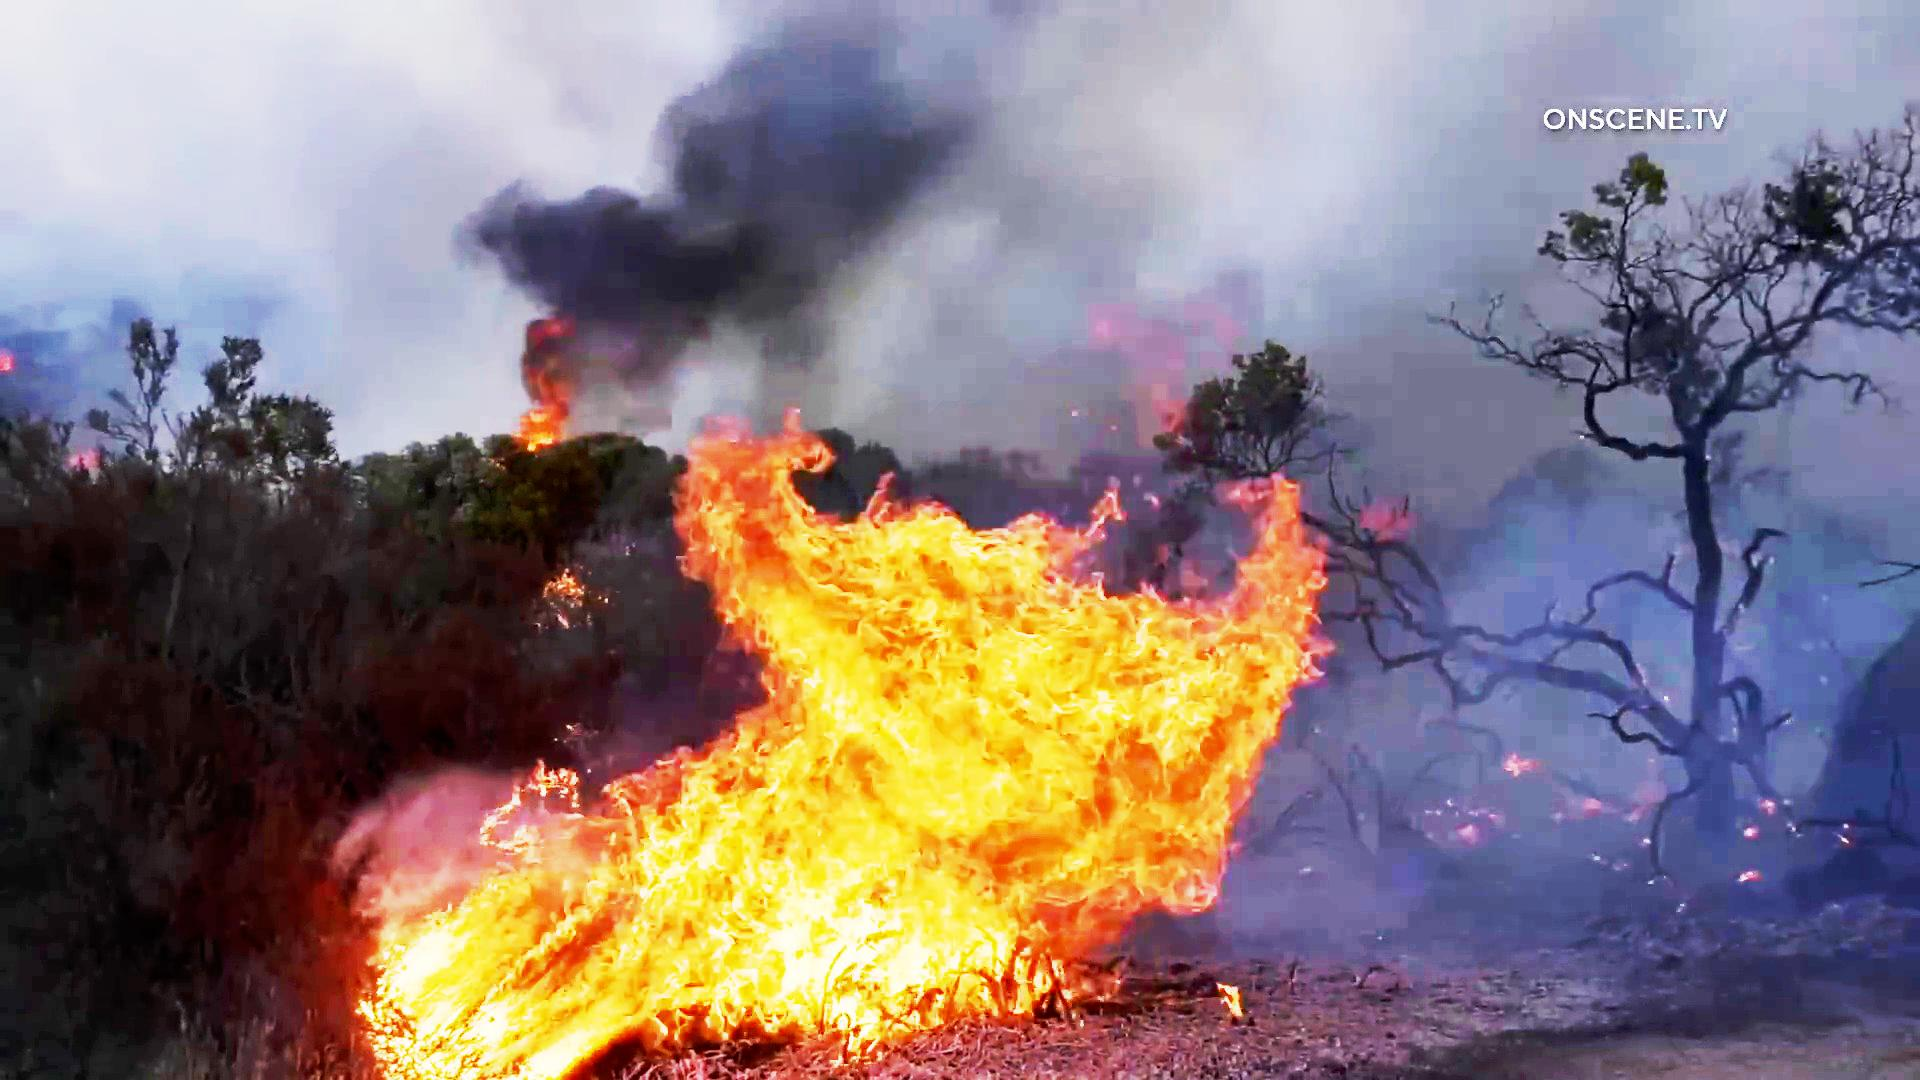fire: (657, 448, 1316, 1022), (351, 764, 679, 1080)
smoke: (533, 36, 969, 343)
